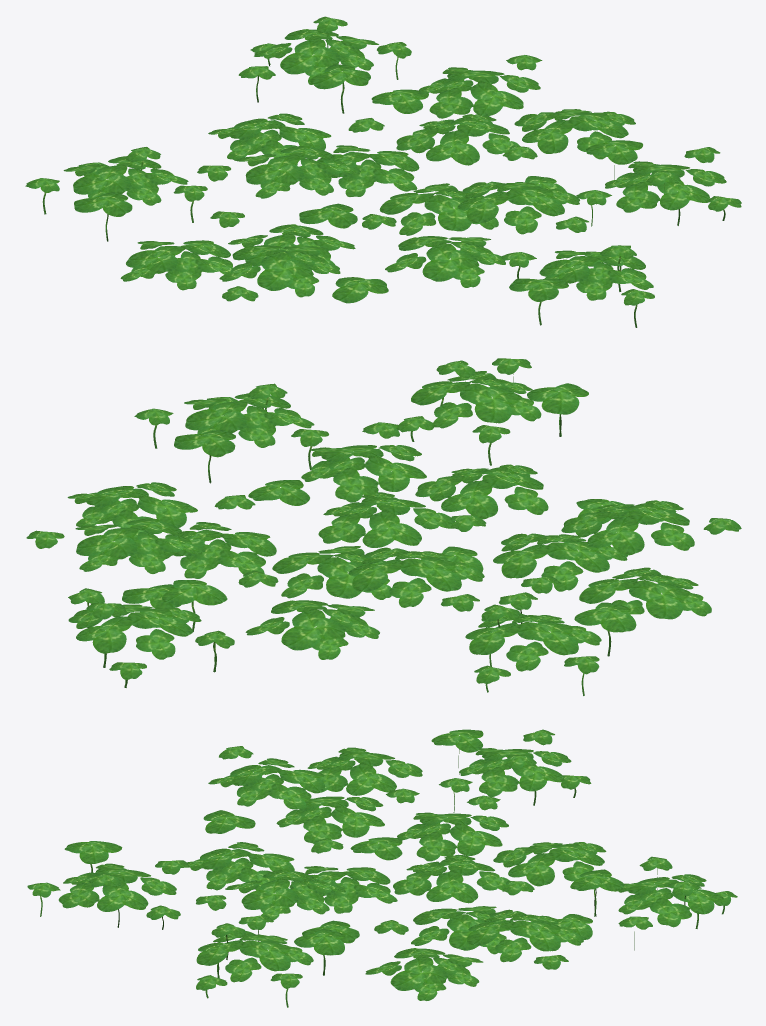
Rendered from CloverPatch.fbx.
The picture shows the model from 3 angles, top to bottom: view 1: azimuth 30°, elevation 25°; view 2: azimuth 150°, elevation 25°; view 3: azimuth 270°, elevation 25°; orthographic projection. The views are drawn at different scales.
Visible parts, largest first — view 1: CloverPatch; view 2: CloverPatch; view 3: CloverPatch.
Part boxes in pixels (box(x1,y1,x2,y2)): CloverPatch: box(25, 16, 741, 327); CloverPatch: box(26, 358, 741, 695); CloverPatch: box(27, 729, 737, 1007).
Bounding box in the file's own units: 137 × 158 × 11.79.
